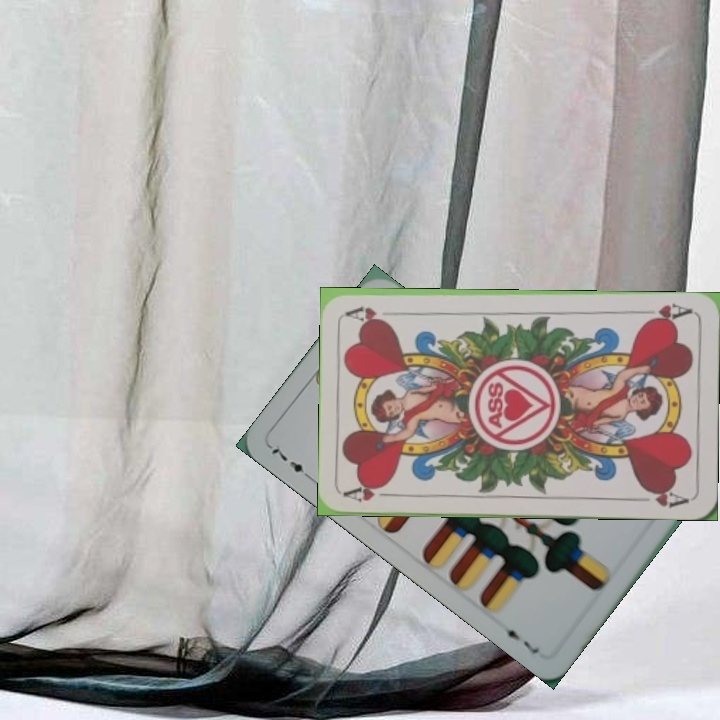E7: (266, 440, 316, 484)
HA: (635, 298, 694, 325), (342, 480, 401, 505)
